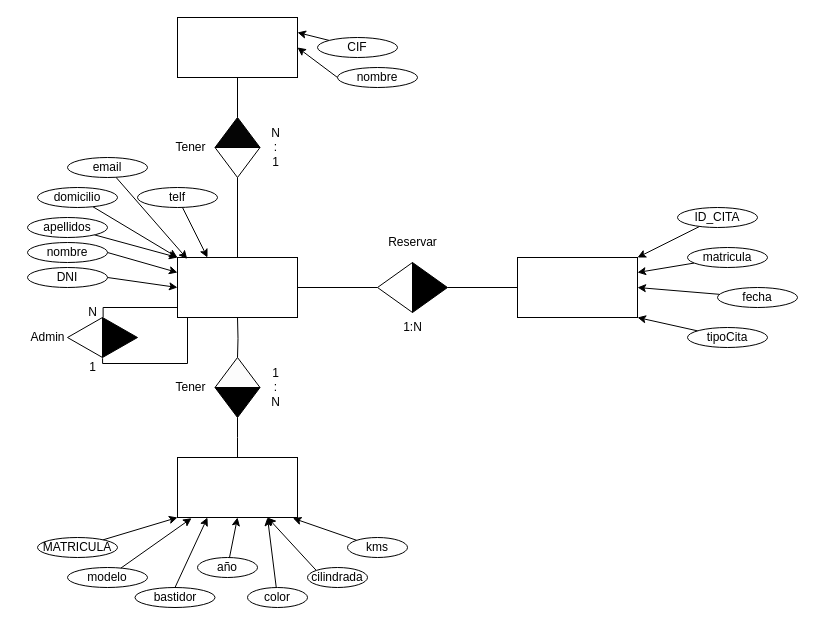
The diagram is 815 pixels wide and 625 high, and some of its shapes have lost their labels. The centre of each missing label's shape, as x and y in pixels:
CITAS: [577,287]
CLIENTES: [237,287]
MOTOS: [237,487]
TALLER: [237,47]
